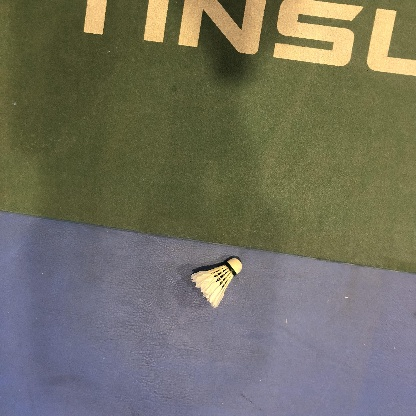ball_single: (191, 258, 242, 308)
